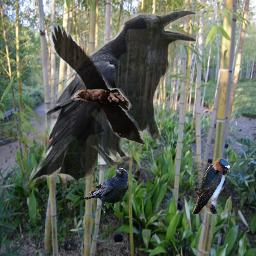Crow: (23, 11, 196, 190), (49, 23, 146, 147), (83, 168, 128, 213)
Swallow: (190, 158, 230, 214)
